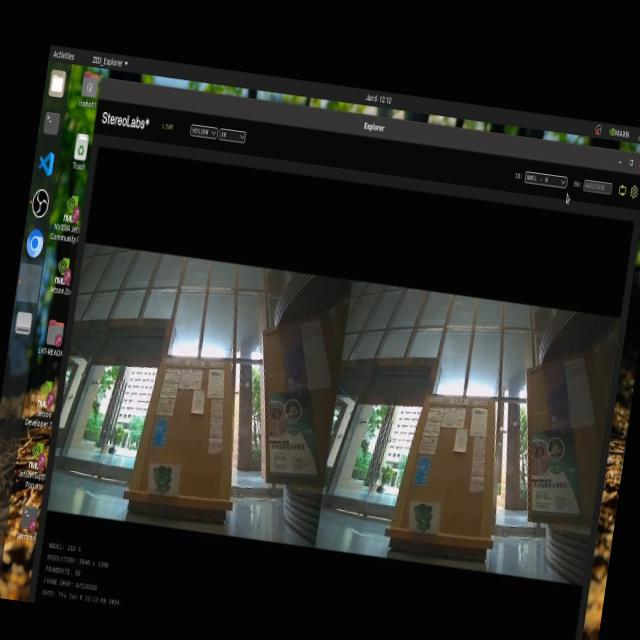green: (408, 488, 448, 534), (143, 456, 181, 501)
